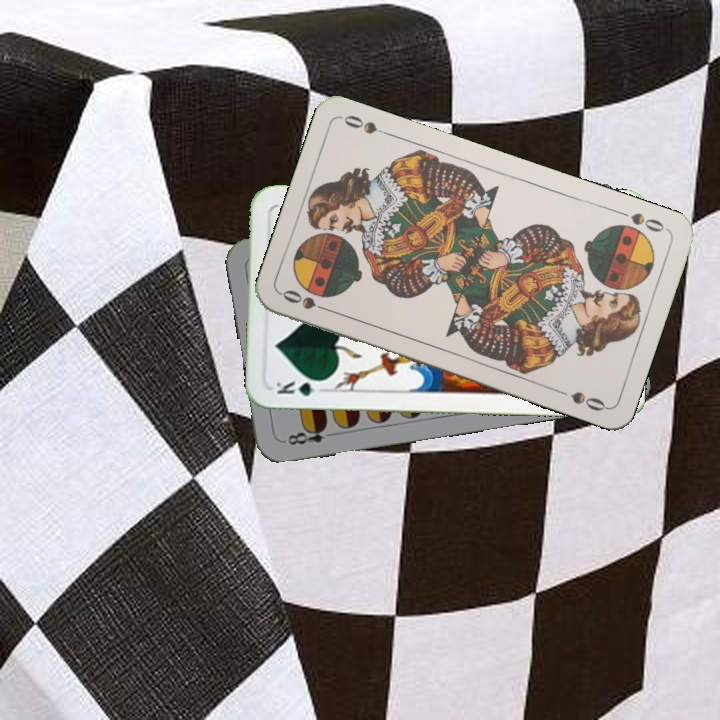E8: (279, 420, 338, 448)
GK: (272, 376, 329, 398)
SO: (278, 286, 335, 315), (613, 206, 670, 235)
